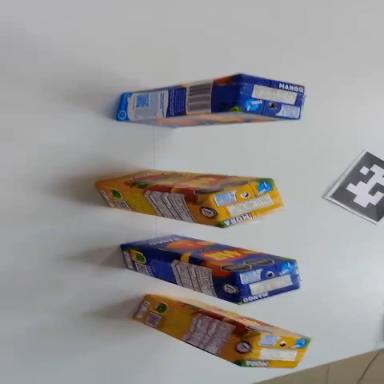HIT-MANGO: (114, 225, 304, 315), (115, 70, 306, 130)
HIT-MORA: (129, 283, 311, 384), (94, 166, 284, 231)
cara_F: (120, 224, 294, 286), (148, 285, 311, 350), (95, 166, 270, 201), (120, 107, 298, 132)
